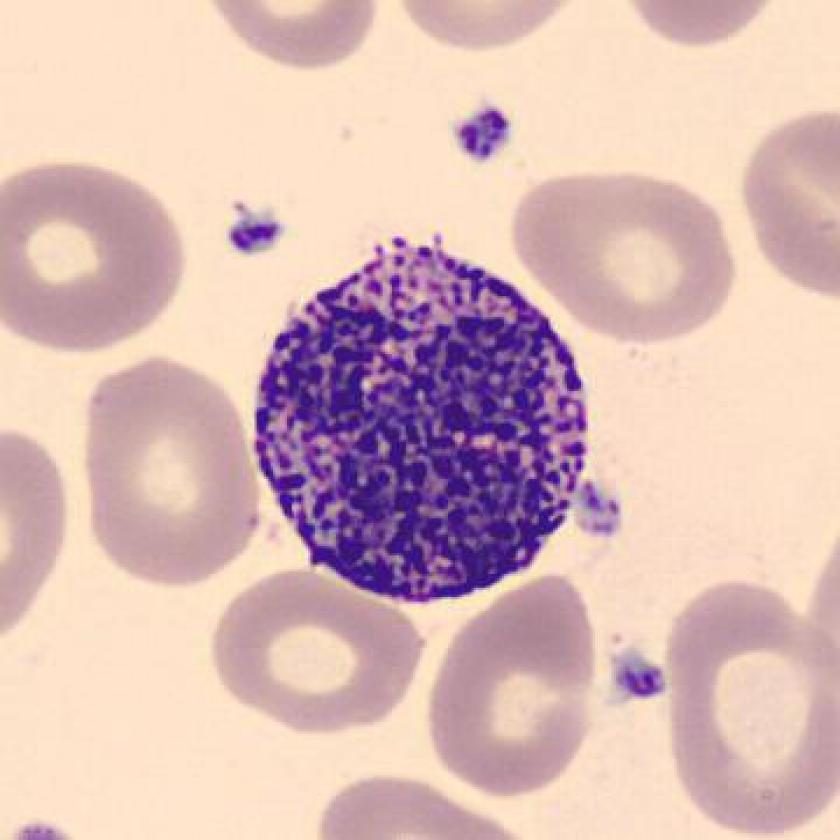basophil: (241, 246, 601, 610)
